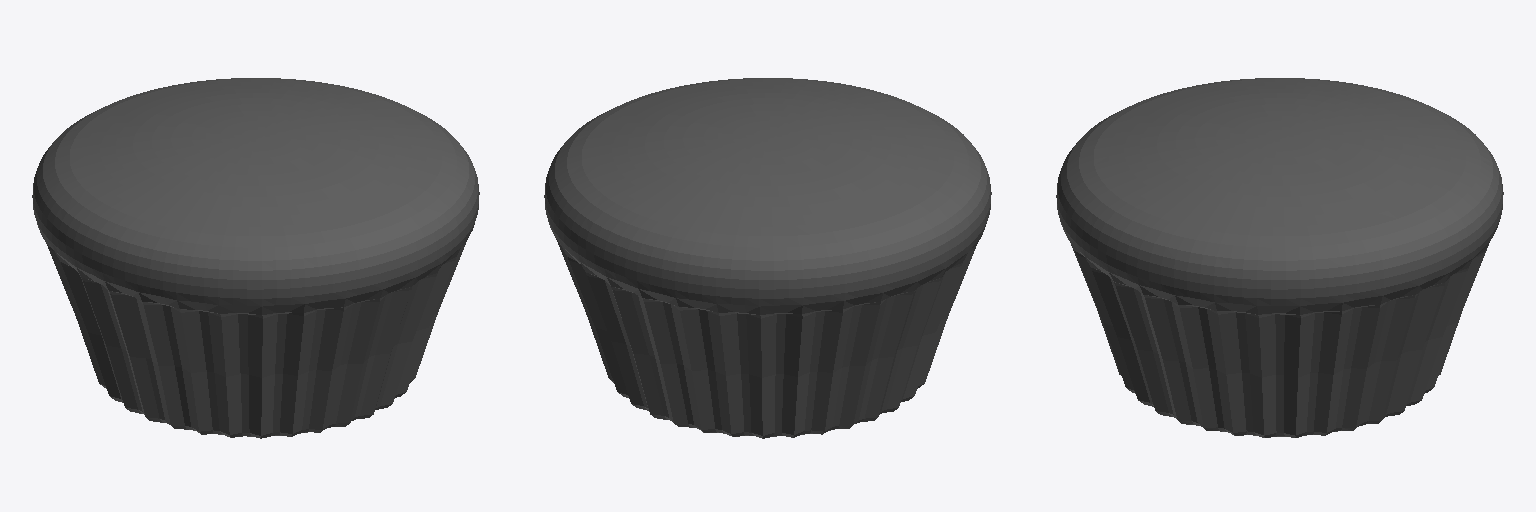
File: cupcake.obj
3 views of the same model, side by side, from view 1: azimuth 30°, elevation 25°; view 2: azimuth 150°, elevation 25°; view 3: azimuth 270°, elevation 25° (orthographic).
Parts seen in each view (by area): view 1: cupcake_Small_GEO_cupcake_Small_GEOMesh.001; view 2: cupcake_Small_GEO_cupcake_Small_GEOMesh.001; view 3: cupcake_Small_GEO_cupcake_Small_GEOMesh.001.
Part boxes in pixels (x1,y1,x2,y2): cupcake_Small_GEO_cupcake_Small_GEOMesh.001: (32,78,479,438); cupcake_Small_GEO_cupcake_Small_GEOMesh.001: (544,78,991,438); cupcake_Small_GEO_cupcake_Small_GEOMesh.001: (1056,78,1503,437).
Bounding box in the file's own units: 0.442 × 0.2627 × 0.442.